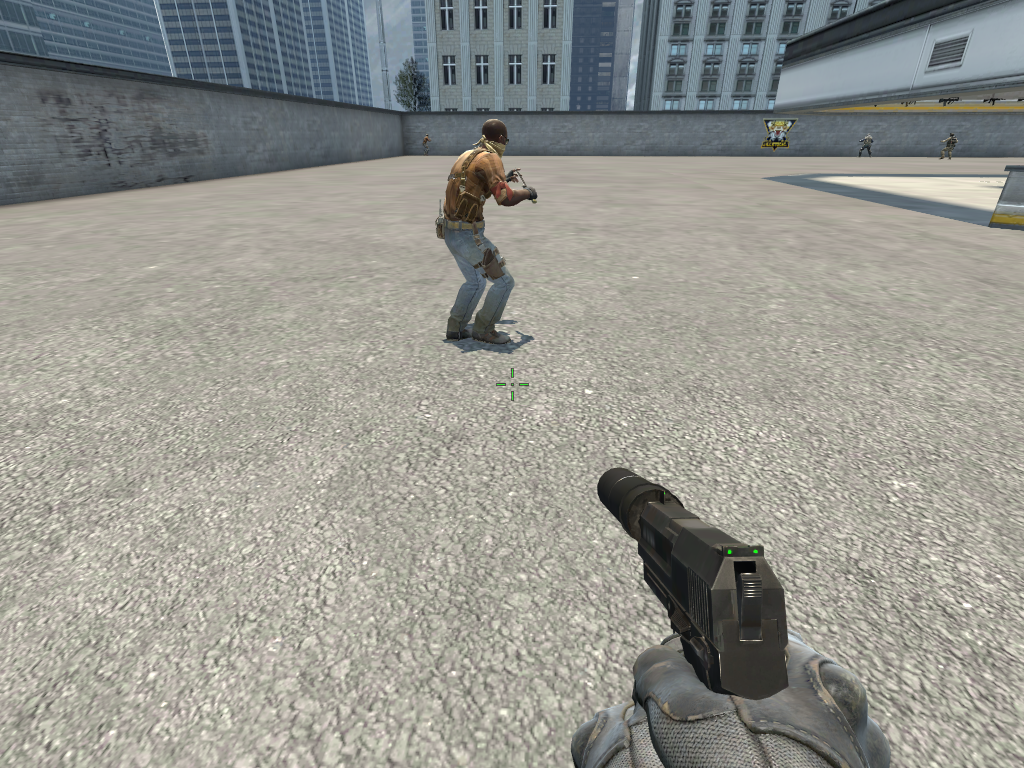tr head: (477, 116, 511, 159)
